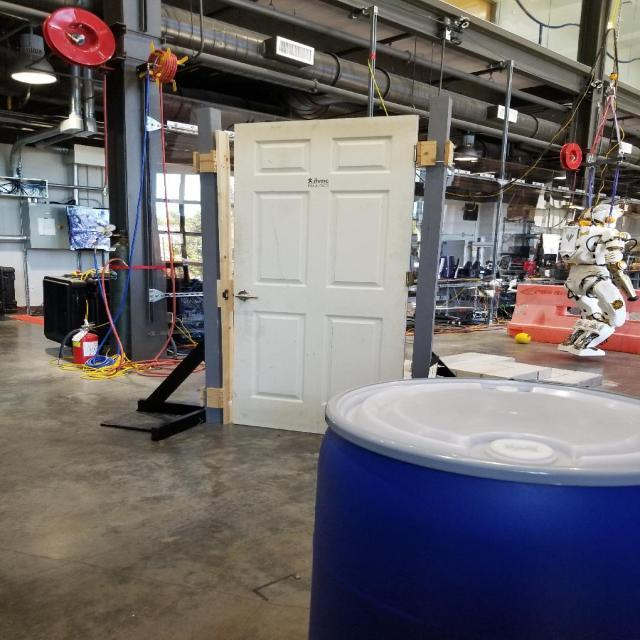door: (230, 113, 418, 444), (230, 290, 258, 306)
